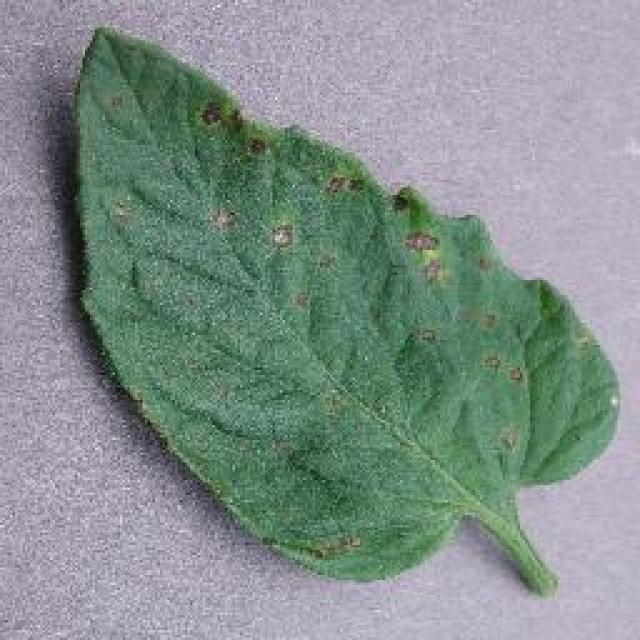Tomato Septoria spot leaf: (76, 24, 624, 584)
